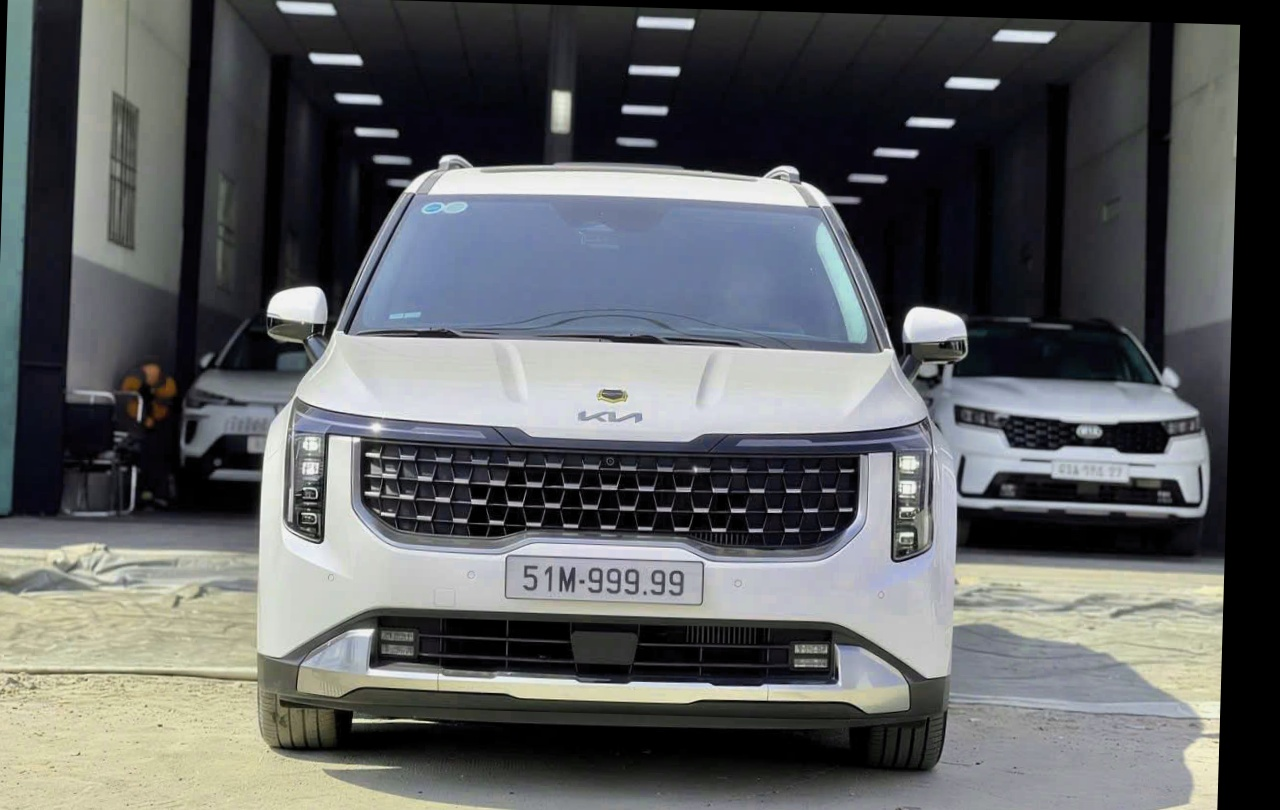Bien-so: (499, 558, 711, 608)
